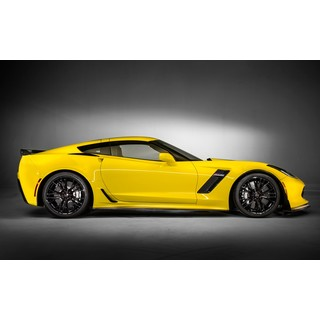car: (13, 135, 316, 217)
